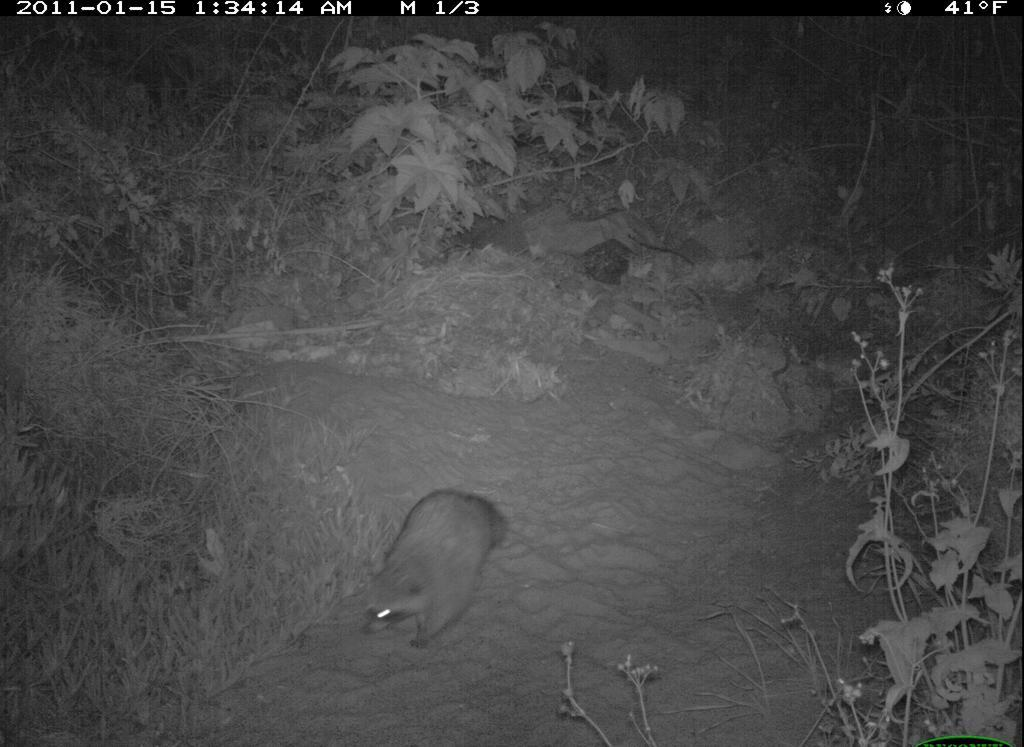raccoon: (349, 481, 519, 658)
